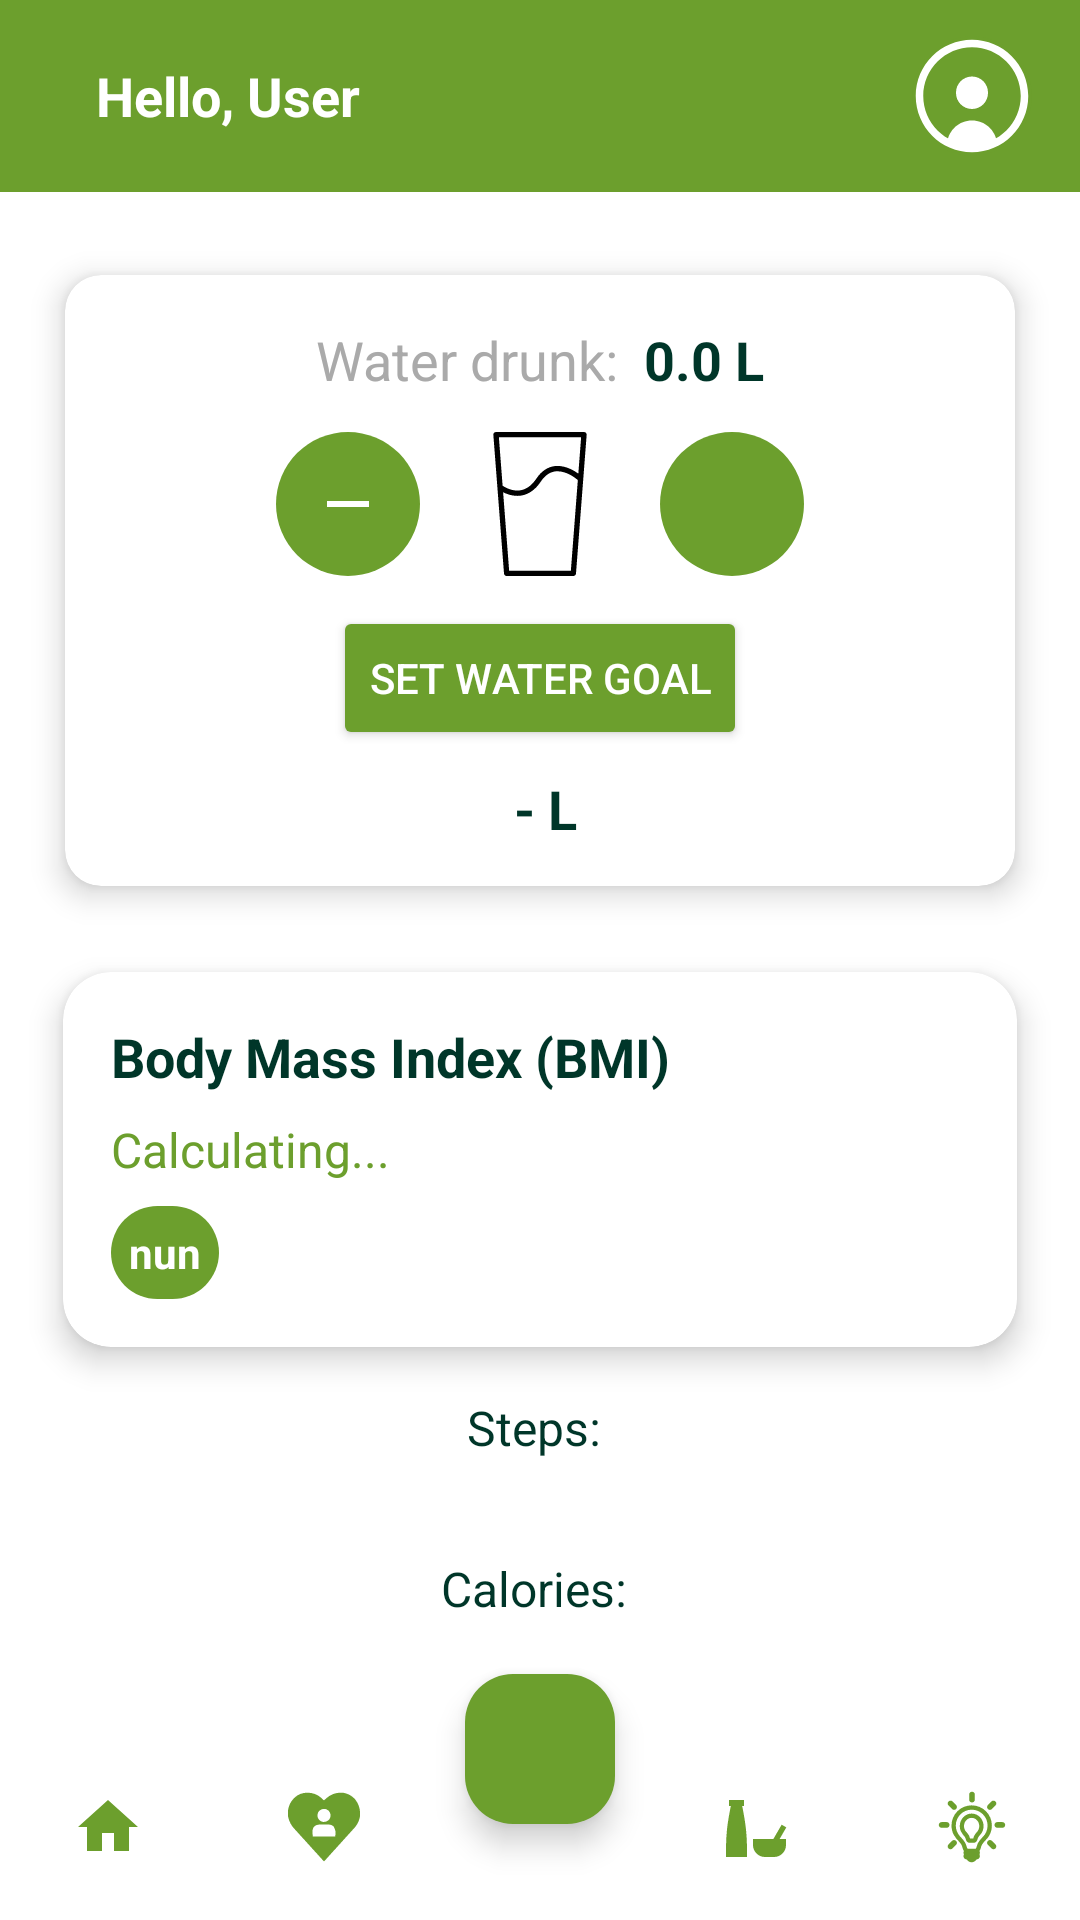

Icons on this 1080*1920 Android screen, each with its box as box(x1, y1, x2, y2):
Decrease: box(276, 432, 420, 576)
Profile: box(915, 39, 1029, 153)
Water Glass: box(493, 432, 587, 576)
